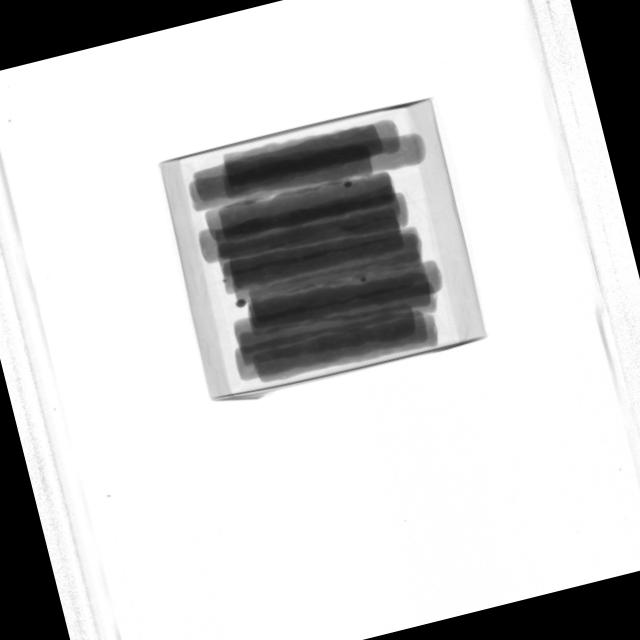ym: (234, 297, 248, 309), (344, 180, 354, 189), (360, 277, 367, 284), (223, 278, 227, 282)
